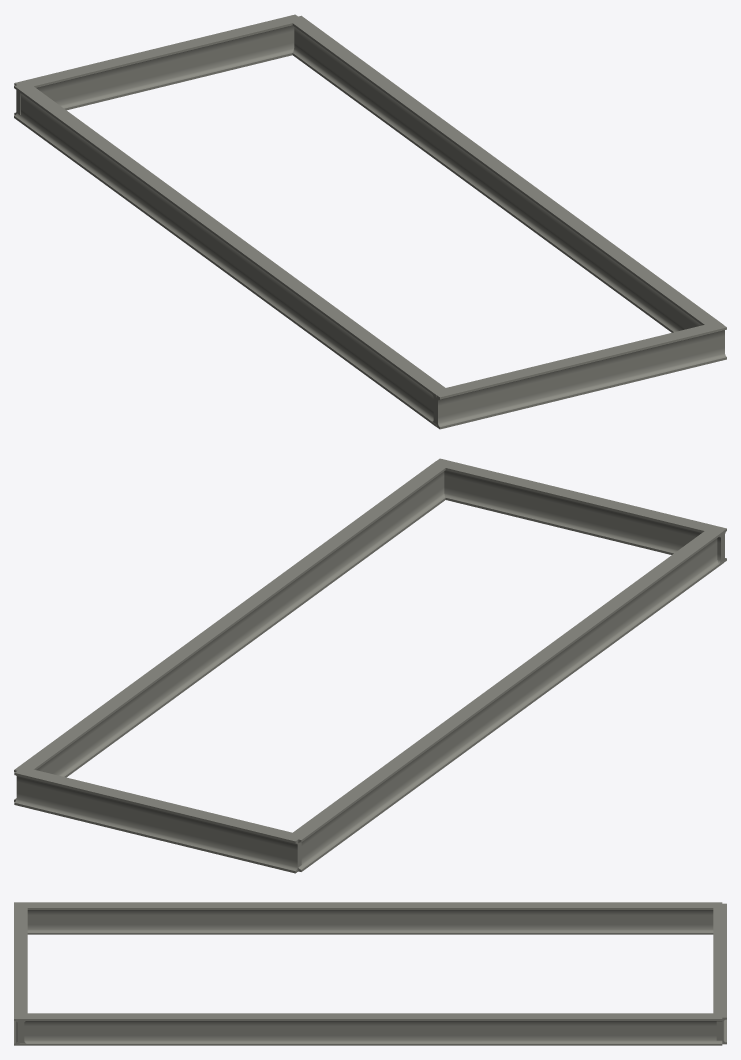
The model's file is metal_border_01.fbx.
3 views of the same model, one above another, from view 1: azimuth 30°, elevation 25°; view 2: azimuth 150°, elevation 25°; view 3: azimuth 270°, elevation 25° (orthographic). The views are drawn at different scales.
Visible parts, largest first — view 1: metal_border_01; view 2: metal_border_01; view 3: metal_border_01.
Part boxes in pixels (x1=…): metal_border_01: x1=14, y1=14, x2=726, y2=429; metal_border_01: x1=14, y1=458, x2=726, y2=873; metal_border_01: x1=14, y1=902, x2=726, y2=1045.
Bounding box in the file's own units: 223 × 23.74 × 575.
